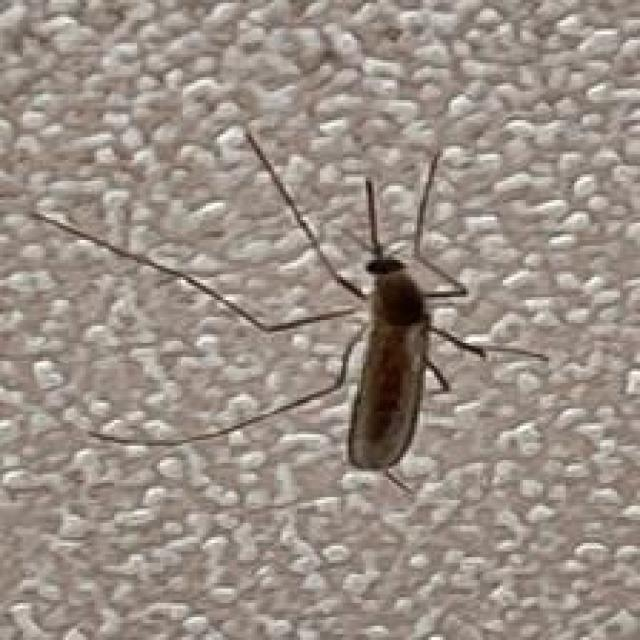Culex: (0, 124, 549, 496)
